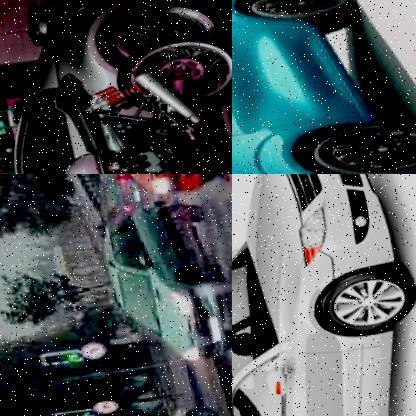bike: (14, 36, 232, 174)
car: (232, 174, 416, 416), (232, 0, 416, 174), (93, 192, 232, 371), (50, 174, 211, 208), (127, 398, 222, 416)
